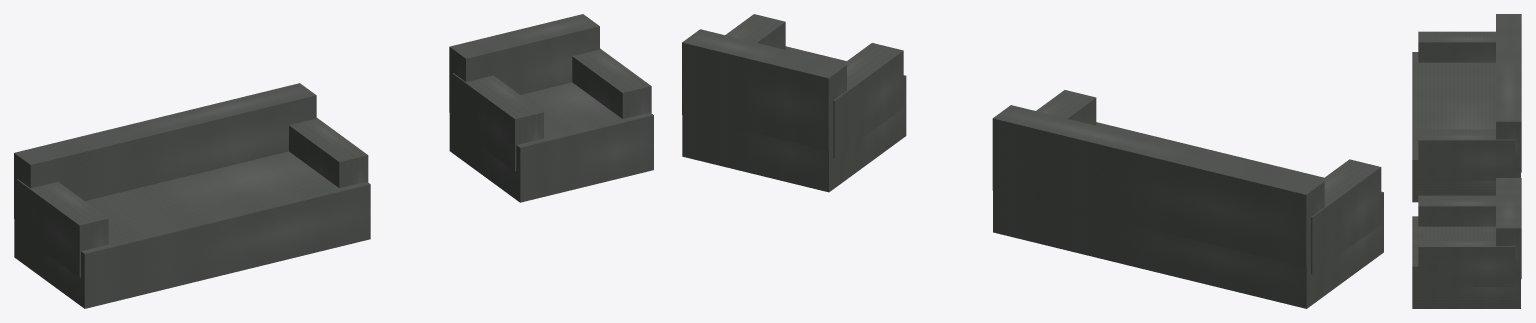
The model's file is PZ_FIELDHAVEN_Simplified_Collision_ONLY.glb.
3 renders of one model, left to right at view 1: azimuth 30°, elevation 25°; view 2: azimuth 150°, elevation 25°; view 3: azimuth 270°, elevation 25°, orthographic. The views are drawn at different scales.
Parts seen in each view (by area): view 1: UCX_Sofa_UpholsteredBase, UCX_Sofa_Back, UCX_Armchair_UpholsteredBase, UCX_Armchair_Back, UCX_Armchair_Arm_L, UCX_Sofa_Arm_L, UCX_Armchair_Arm_R, UCX_Sofa_Arm_R; view 2: UCX_Sofa_Back, UCX_Sofa_UpholsteredBase, UCX_Armchair_Back, UCX_Armchair_UpholsteredBase, UCX_Sofa_Arm_L, UCX_Armchair_Arm_L, UCX_Sofa_Arm_R, UCX_Armchair_Arm_R; view 3: UCX_Sofa_UpholsteredBase, UCX_Armchair_Arm_R, UCX_Sofa_Arm_R, UCX_Armchair_UpholsteredBase, UCX_Sofa_Back, UCX_Sofa_Arm_L, UCX_Armchair_Arm_L, UCX_Armchair_Back.
Boxes of the visible parts, left/top/right/bottom form: UCX_Sofa_UpholsteredBase: left=14, top=151, right=370, bottom=308; UCX_Sofa_Back: left=14, top=83, right=316, bottom=219; UCX_Armchair_UpholsteredBase: left=449, top=82, right=653, bottom=202; UCX_Armchair_Back: left=449, top=14, right=599, bottom=112; UCX_Armchair_Arm_L: left=452, top=73, right=543, bottom=171; UCX_Sofa_Arm_L: left=17, top=179, right=108, bottom=277; UCX_Armchair_Arm_R: left=572, top=48, right=651, bottom=118; UCX_Sofa_Arm_R: left=289, top=118, right=368, bottom=188; UCX_Sofa_Back: left=992, top=105, right=1324, bottom=266; UCX_Sofa_UpholsteredBase: left=993, top=122, right=1383, bottom=308; UCX_Armchair_Back: left=682, top=29, right=846, bottom=150; UCX_Armchair_UpholsteredBase: left=682, top=46, right=906, bottom=192; UCX_Sofa_Arm_L: left=1311, top=159, right=1381, bottom=274; UCX_Armchair_Arm_L: left=833, top=43, right=903, bottom=157; UCX_Sofa_Arm_R: left=1036, top=90, right=1096, bottom=125; UCX_Armchair_Arm_R: left=725, top=14, right=785, bottom=49; UCX_Sofa_UpholsteredBase: left=1412, top=52, right=1520, bottom=202; UCX_Armchair_Arm_R: left=1418, top=236, right=1515, bottom=287; UCX_Sofa_Arm_R: left=1418, top=129, right=1515, bottom=180; UCX_Armchair_UpholsteredBase: left=1412, top=216, right=1520, bottom=308; UCX_Sofa_Back: left=1496, top=14, right=1521, bottom=172; UCX_Sofa_Arm_L: left=1418, top=31, right=1495, bottom=62; UCX_Armchair_Arm_L: left=1418, top=195, right=1495, bottom=226; UCX_Armchair_Back: left=1496, top=178, right=1521, bottom=279.
Size of the model in its own units: 4.36 by 0.76 by 0.935.
1 material, 1 textured.
